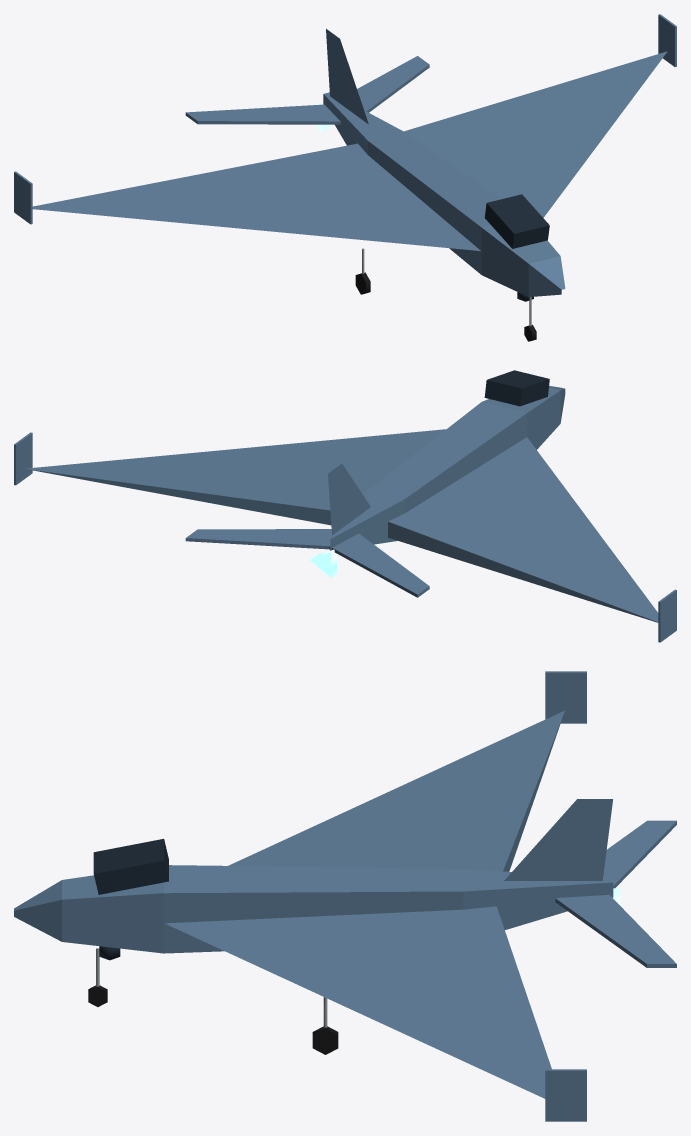
Rendered from veh_air_bomber_a10_lod2.glb.
The picture shows the model from 3 angles, top to bottom: view 1: azimuth 30°, elevation 25°; view 2: azimuth 150°, elevation 25°; view 3: azimuth 270°, elevation 25°; orthographic projection. The views are drawn at different scales.
Visible parts, largest first — view 1: body; view 2: body; view 3: body, gear_2.
Part boxes in pixels (x1=…): body: x1=14, y1=14, x2=676, y2=301; body: x1=14, y1=370, x2=676, y2=642; body: x1=14, y1=671, x2=676, y2=1121; gear_2: x1=312, y1=997, x2=338, y2=1054.
Bounding box in the file's own units: 25.38 × 6.15 × 17.81.
